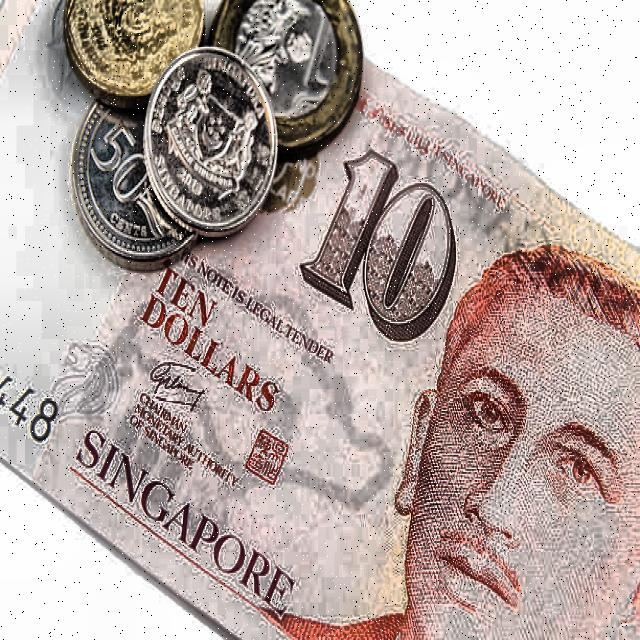coin: (210, 0, 361, 160)
